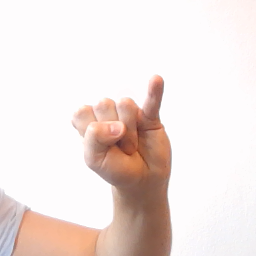I: (67, 73, 178, 184)
